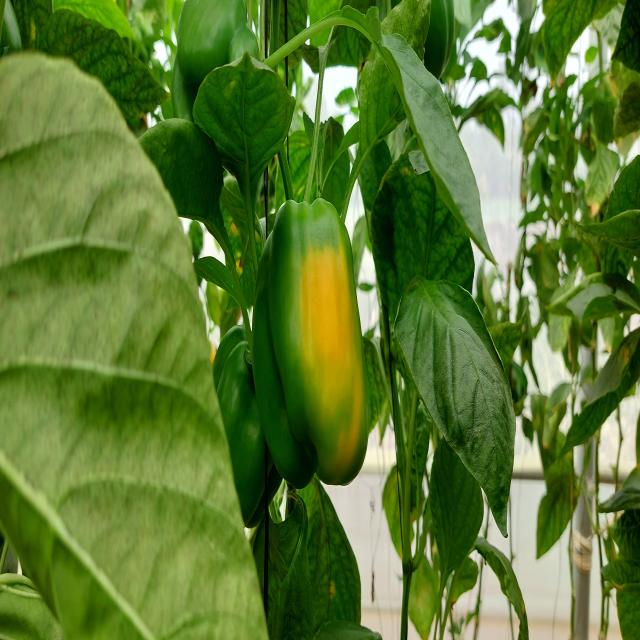GreenishYellow--Can-be-Harvested: (242, 181, 392, 499)
